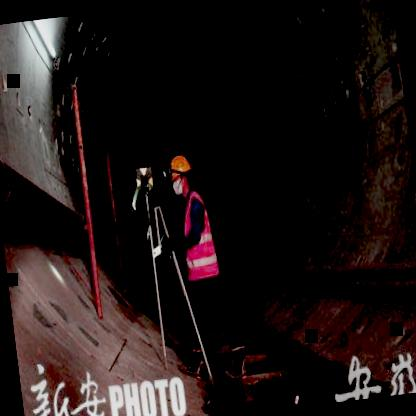helmet: (165, 150, 196, 194)
